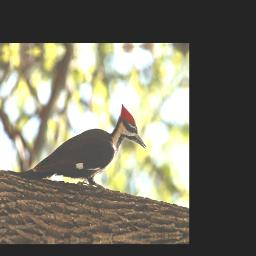Woodpecker: (5, 101, 148, 204)
